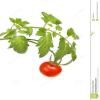Tomato leaf: (34, 26, 56, 59), (55, 33, 74, 67), (6, 33, 31, 58), (26, 26, 34, 37)
